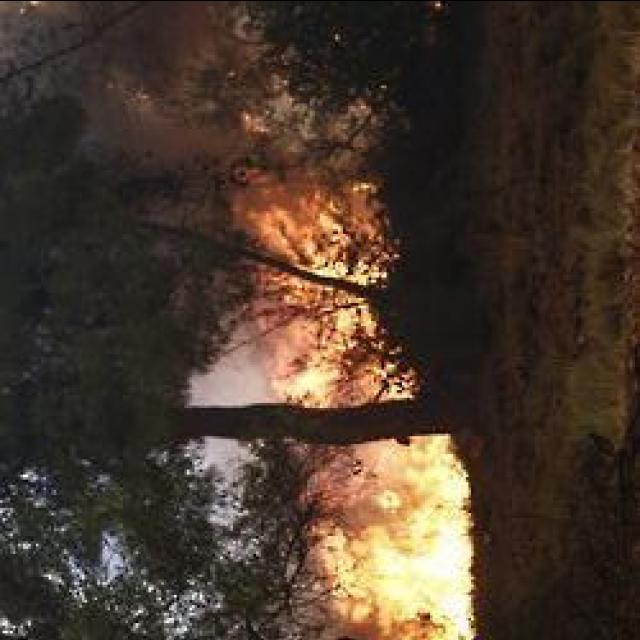fire: (344, 438, 476, 630)
